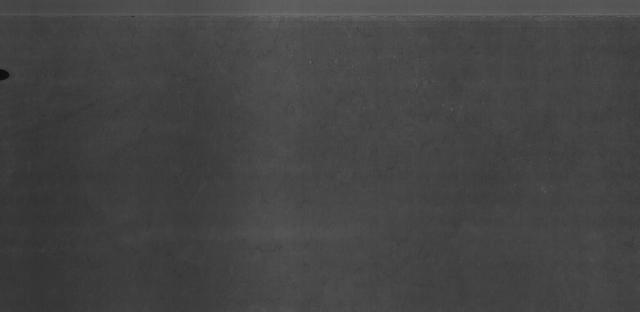punching_hole: (0, 65, 12, 81)
welding_line: (0, 11, 639, 24)
